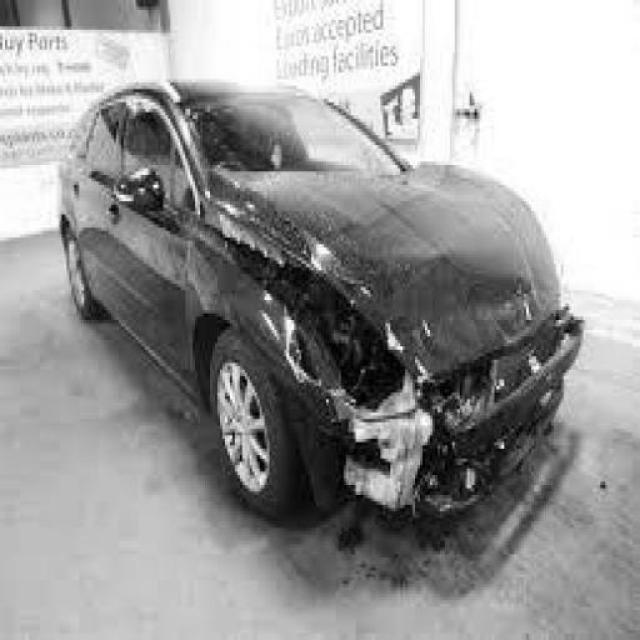crush: (205, 201, 586, 518)
